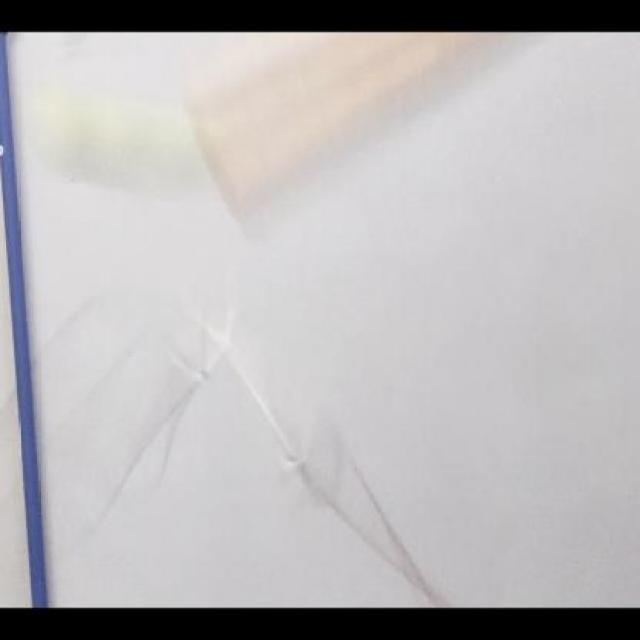baseball: (39, 146, 227, 154)
